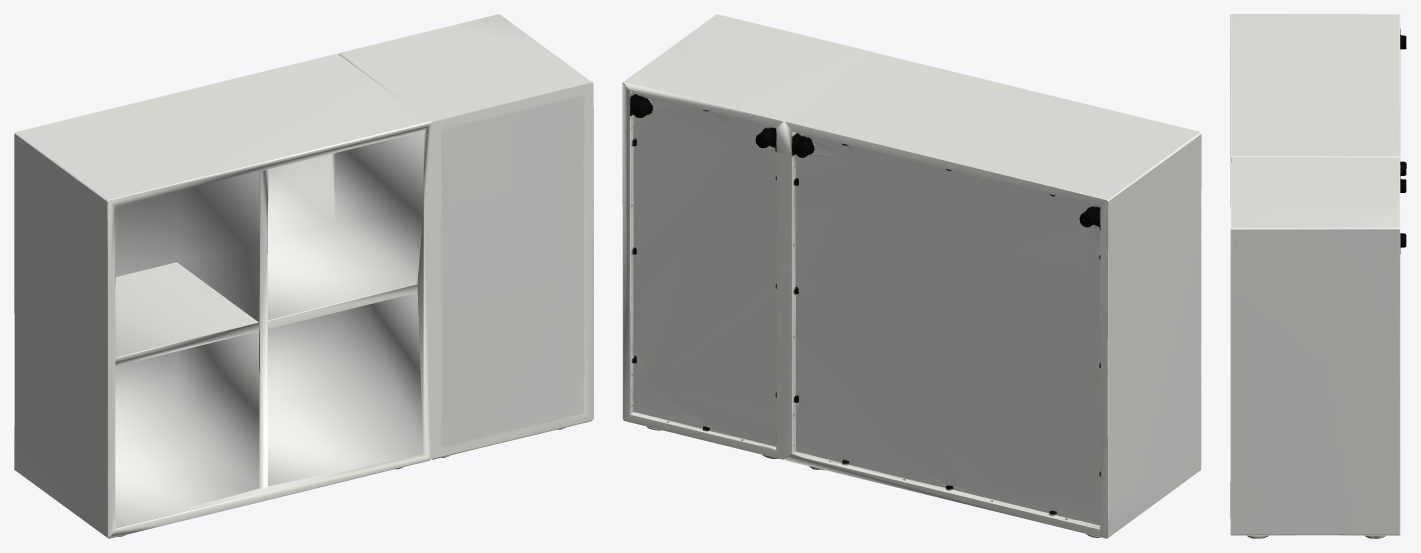
Rendered from 35 - EKET - 附櫃腳收納櫃組合, 白色, 105x35x72 公分 IKEA 線上購物.glb.
3 renders of one model, left to right at view 1: azimuth 30°, elevation 25°; view 2: azimuth 150°, elevation 25°; view 3: azimuth 270°, elevation 25°, orthographic. The views are drawn at different scales.
Visible parts, largest first — view 1: ProcessedMeshNode; view 2: ProcessedMeshNode; view 3: ProcessedMeshNode.
Boxes of the visible parts, x1,y1,x2,y2 form: ProcessedMeshNode: [14, 14, 593, 538]; ProcessedMeshNode: [622, 14, 1201, 538]; ProcessedMeshNode: [1230, 14, 1406, 538].
Bounding box in the file's own units: 1.05 × 0.7196 × 0.3632.
Materials: 1 (1 with a texture image).
